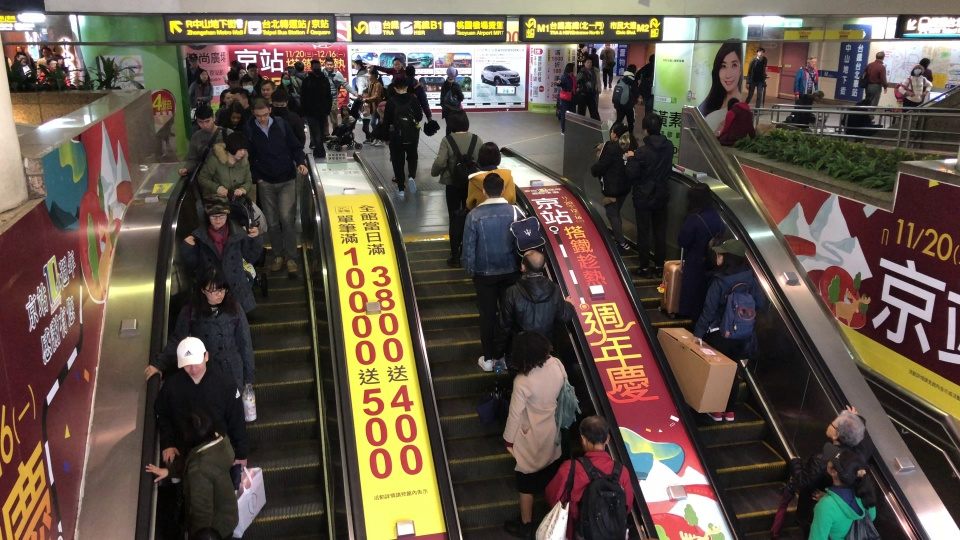person_head: (507, 330, 553, 374), (825, 409, 865, 448), (826, 448, 864, 488), (175, 335, 209, 379), (182, 407, 216, 444), (578, 413, 610, 452), (198, 265, 228, 305), (711, 238, 746, 268), (202, 193, 230, 228), (224, 130, 250, 161), (687, 182, 712, 213), (520, 248, 545, 275), (478, 140, 501, 168), (482, 172, 505, 199), (446, 108, 469, 134), (250, 97, 271, 125), (194, 105, 215, 132), (641, 112, 662, 136), (270, 88, 288, 115), (230, 87, 249, 108), (609, 123, 628, 142), (228, 101, 243, 125), (259, 79, 275, 99), (239, 73, 254, 93), (393, 76, 408, 93), (226, 70, 240, 88), (219, 89, 233, 106), (246, 63, 258, 79), (386, 82, 398, 98), (310, 58, 321, 75), (726, 97, 739, 111), (810, 90, 824, 103), (45, 57, 57, 72), (446, 66, 458, 80), (910, 63, 924, 75), (188, 53, 198, 69), (324, 56, 334, 72), (353, 58, 366, 70), (404, 65, 415, 79), (197, 69, 208, 82), (280, 72, 291, 85), (391, 57, 402, 70), (563, 62, 576, 73), (368, 67, 378, 81), (230, 59, 241, 71), (293, 61, 305, 72), (919, 57, 930, 69), (340, 104, 350, 117), (626, 63, 636, 76), (17, 52, 27, 64), (41, 46, 51, 57), (285, 65, 295, 76), (755, 47, 765, 58), (875, 51, 885, 62), (583, 56, 592, 68), (807, 56, 816, 67), (362, 87, 370, 99), (238, 68, 246, 79), (56, 55, 64, 65), (648, 53, 655, 63), (15, 45, 23, 53), (590, 47, 597, 55), (578, 44, 585, 50), (605, 42, 610, 47)
person_vbox: (143, 264, 256, 394), (501, 330, 570, 540), (692, 237, 765, 422), (153, 334, 248, 470), (145, 404, 239, 540), (461, 172, 524, 373), (243, 96, 309, 279), (789, 404, 875, 540), (543, 413, 634, 540), (180, 192, 264, 315), (490, 249, 574, 372), (622, 113, 674, 280), (430, 108, 484, 268), (806, 448, 881, 540), (676, 182, 722, 316), (590, 123, 632, 250), (382, 76, 420, 196), (177, 103, 234, 177), (197, 129, 253, 197), (464, 139, 516, 209), (320, 56, 363, 137), (300, 59, 333, 159), (376, 81, 406, 183), (403, 64, 432, 162), (267, 87, 306, 151), (608, 63, 639, 137), (716, 97, 756, 147), (361, 67, 385, 147), (863, 51, 888, 124), (898, 64, 932, 117), (745, 47, 771, 115), (782, 89, 827, 128), (575, 55, 601, 121), (440, 65, 464, 135), (556, 62, 579, 135), (841, 99, 883, 137), (793, 55, 819, 105), (635, 53, 655, 115), (351, 58, 369, 125), (325, 103, 355, 141), (363, 56, 406, 80), (38, 56, 70, 87), (188, 68, 213, 107), (599, 42, 616, 89), (285, 59, 307, 94), (214, 88, 234, 126), (36, 45, 57, 81), (10, 53, 36, 82), (359, 87, 372, 145), (918, 57, 933, 106), (185, 53, 204, 89), (239, 62, 263, 90), (275, 71, 297, 94), (576, 43, 588, 72), (588, 47, 599, 69)
